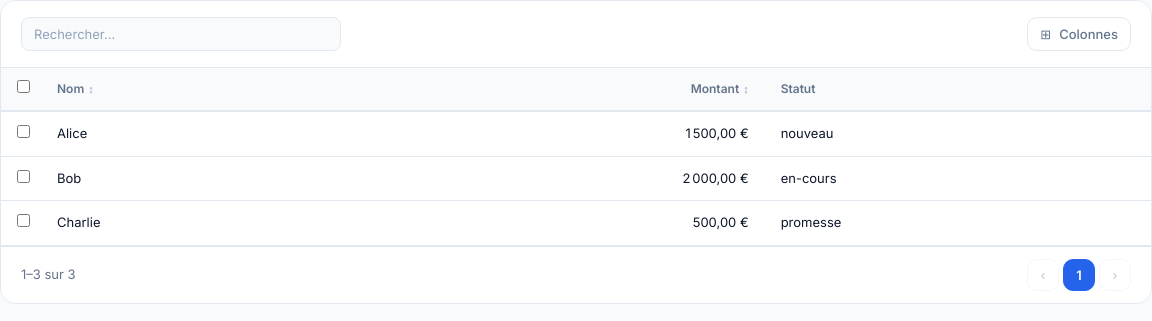
Test: DataGridComponent › global filter › should show empty state when filter matches nothing
In the search field with class "grid__search": (181, 34) [21, 17, 341, 51], type "zzznomatch"
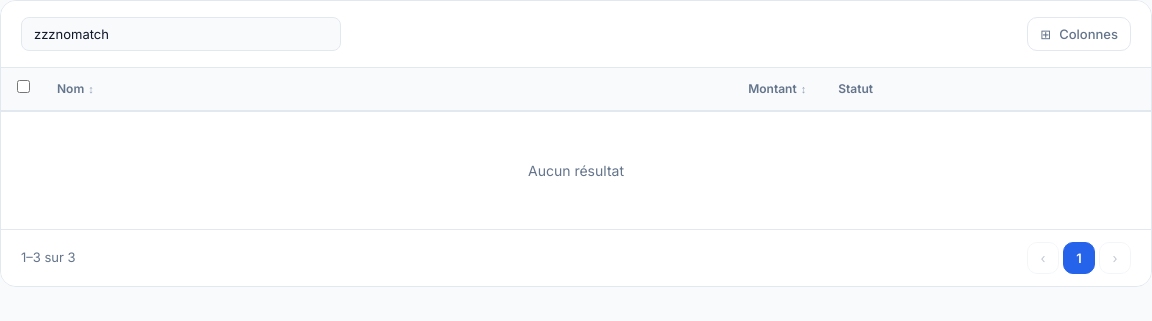
Result: the cell with class "grid__empty" is shown at [1, 111, 1151, 229]
